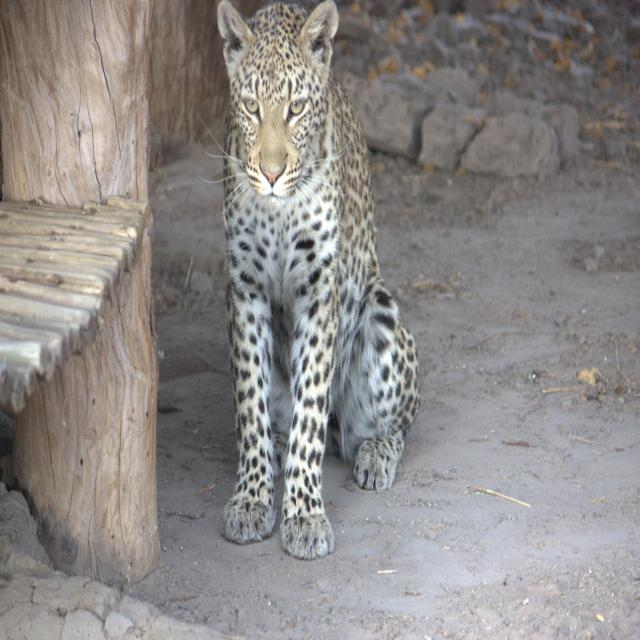Leopard: (214, 1, 422, 556)
